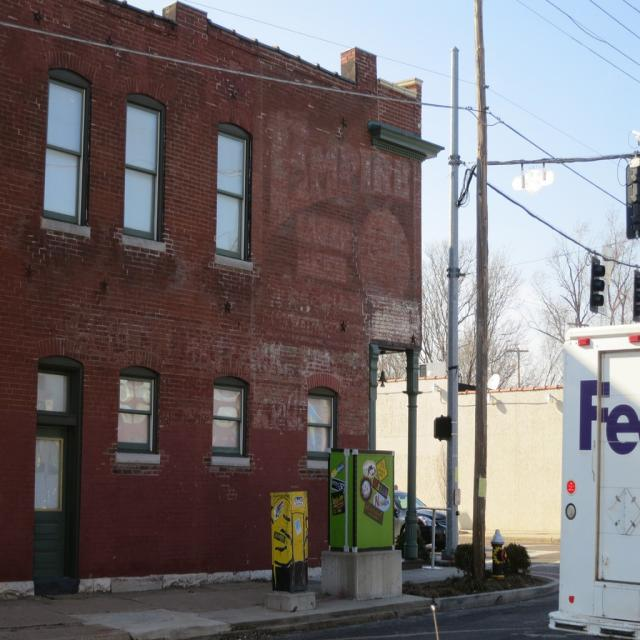fire_hydrant: (493, 526, 508, 579)
